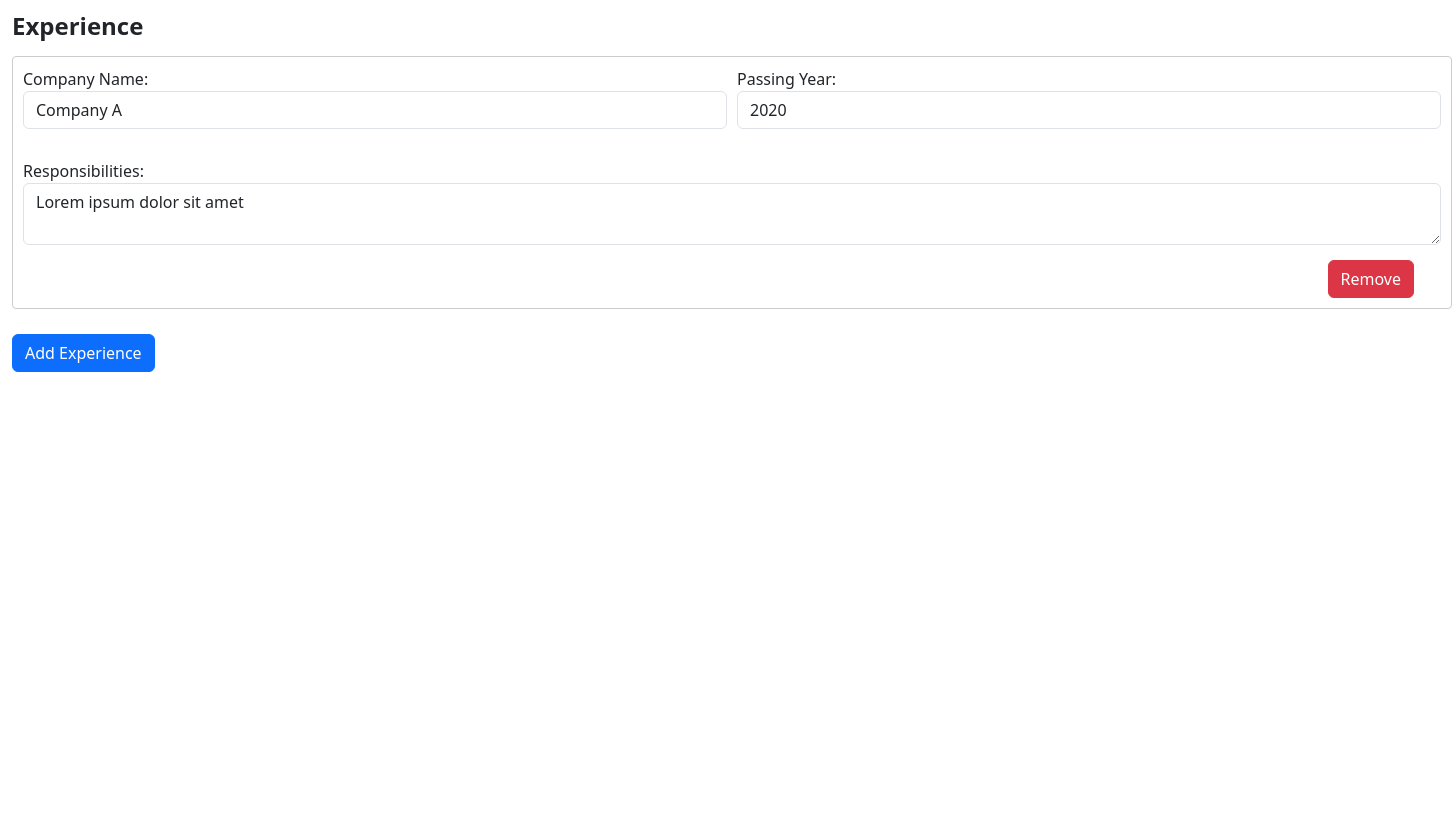
Test case: Experience › adds a new experience entry when add button is clicked
// Simulate clicking on the add button
Step 1. Click the button "Add Experience" → click(83, 353), box [12,334,155,372]
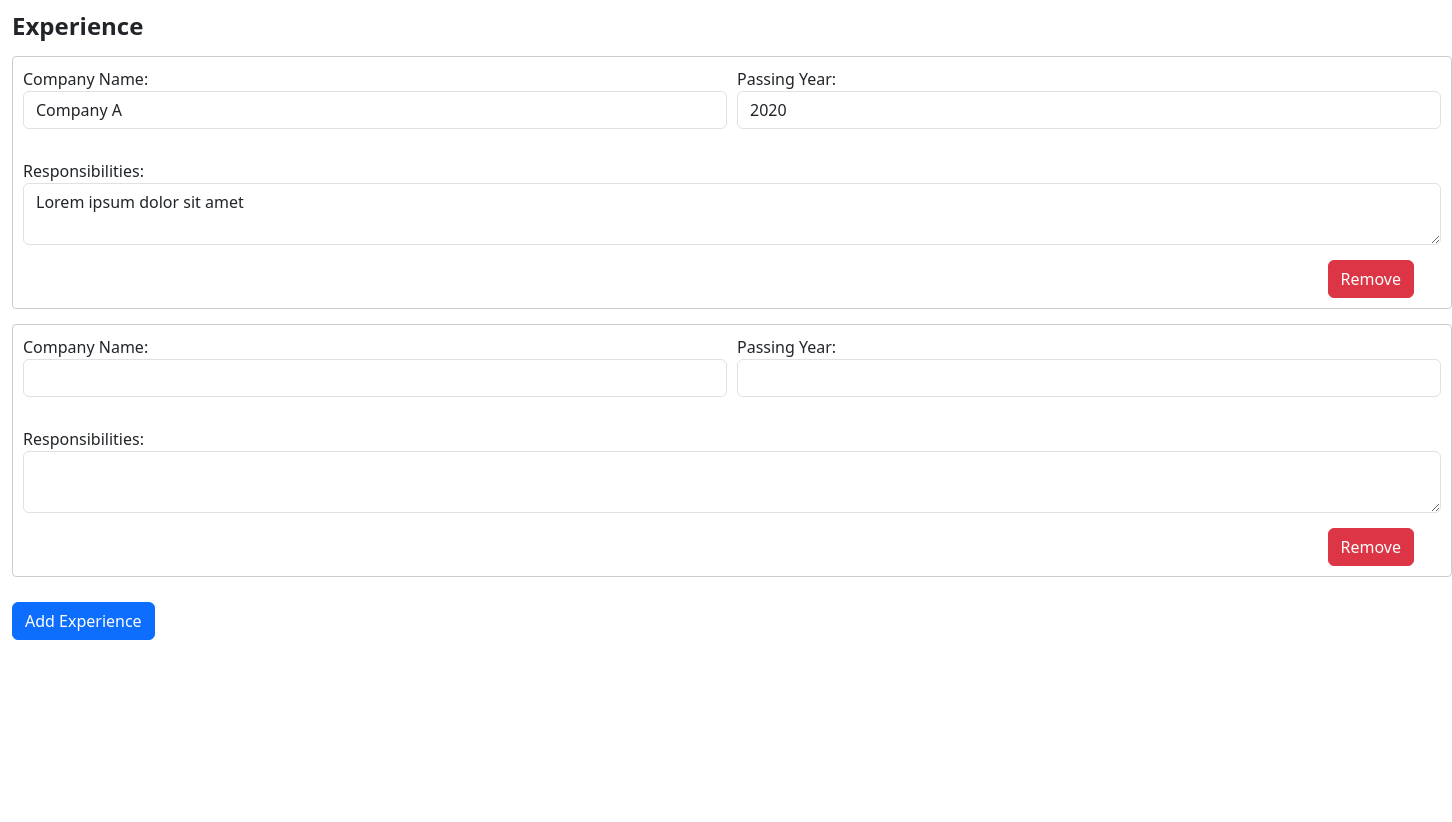
Check: the number of fields labelled "Company Name:" is 2, box [23,91,727,129]; [23,359,727,397]
Check: the number of fields labelled "Passing Year:" is 2, box [737,91,1441,129]; [737,359,1441,397]
Check: the number of text boxes labelled "Responsibilities:" is 2, box [23,183,1441,245]; [23,451,1441,513]
